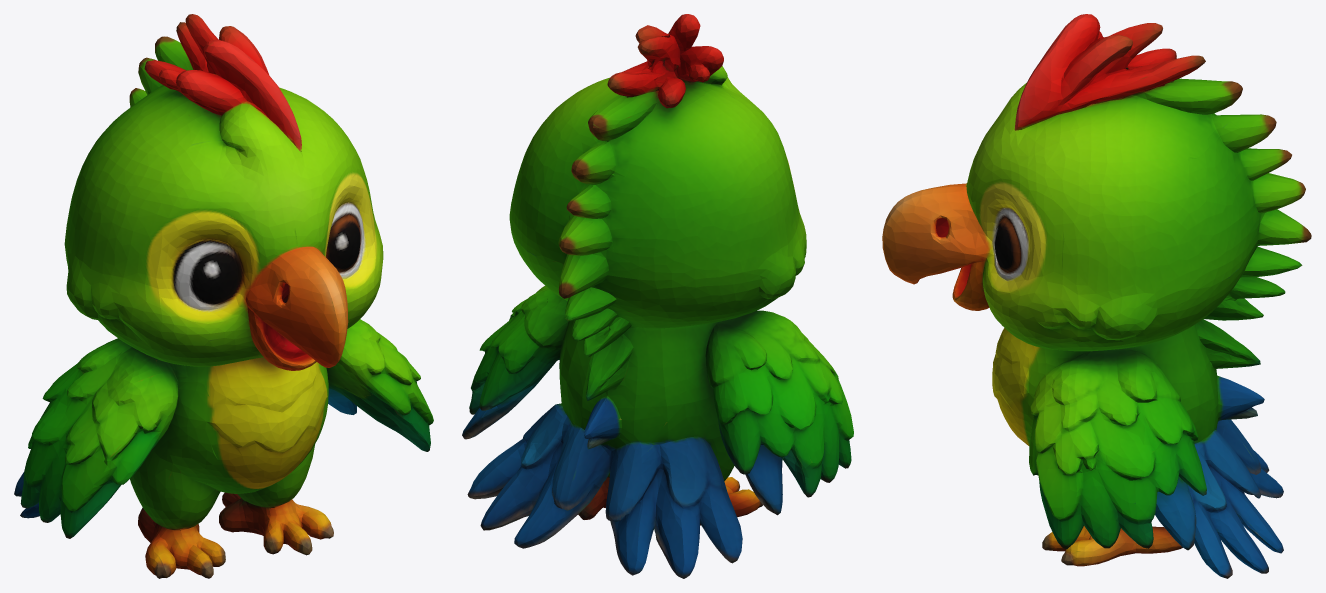
File: perroquet.glb
The picture shows the model from 3 angles, left to right: view 1: azimuth 30°, elevation 25°; view 2: azimuth 150°, elevation 25°; view 3: azimuth 270°, elevation 25°; orthographic projection. The views are drawn at different scales.
Visible parts, largest first — view 1: world; view 2: world; view 3: world.
Boxes of the visible parts, x1,y1,x2,y2 form: world: [14, 14, 433, 578]; world: [462, 14, 853, 578]; world: [882, 14, 1311, 578].
Bounding box in the file's own units: 0.7457 × 0.9994 × 0.7684.
1 material, 1 textured.
